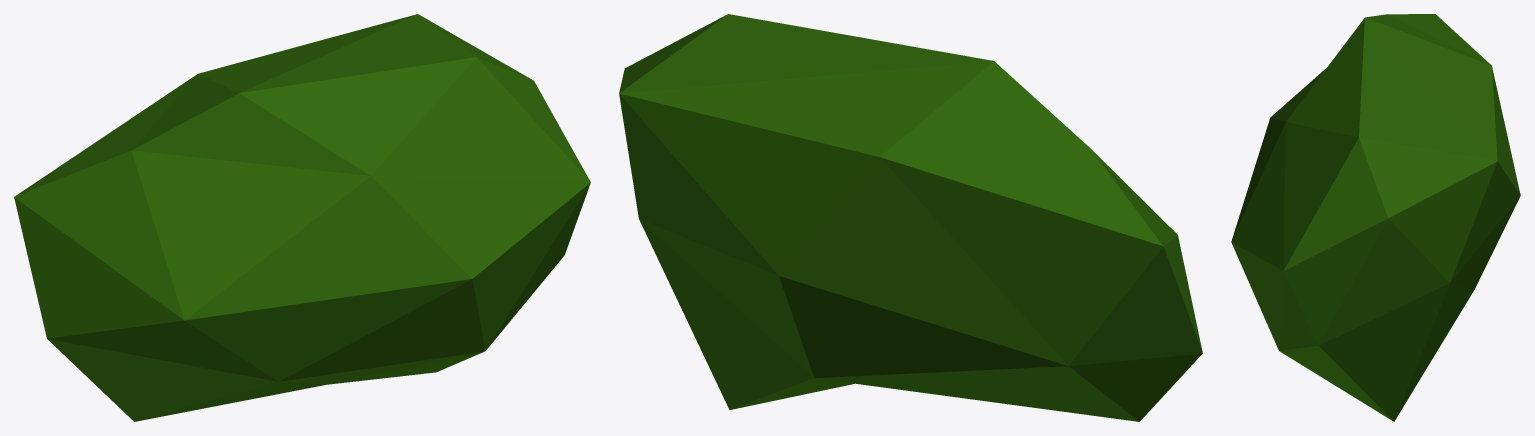
Rendered from p5-green.obj.
3 renders of one model, left to right at view 1: azimuth 30°, elevation 25°; view 2: azimuth 150°, elevation 25°; view 3: azimuth 270°, elevation 25°, orthographic. The views are drawn at different scales.
Visible parts, largest first — view 1: p5-green_Icosphere.030; view 2: p5-green_Icosphere.030; view 3: p5-green_Icosphere.030.
Boxes of the visible parts, box(x1,y1,x2,y2) form: p5-green_Icosphere.030: box(14, 14, 590, 421); p5-green_Icosphere.030: box(619, 14, 1202, 421); p5-green_Icosphere.030: box(1231, 14, 1520, 421).
Size of the model in its own units: 3.36 by 2.23 by 1.88.
